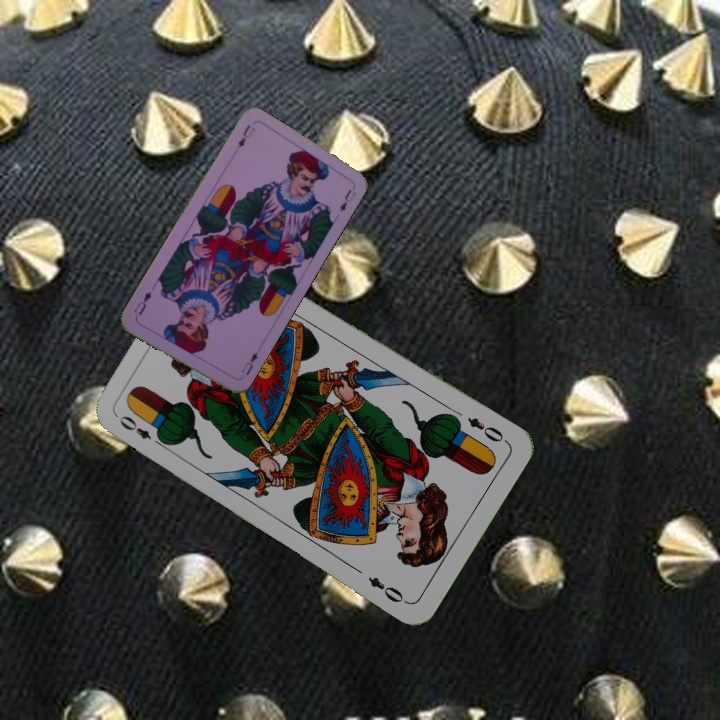EO: (115, 411, 168, 450), (463, 413, 511, 446)
EU: (237, 348, 261, 378), (234, 121, 257, 150)
